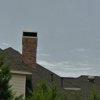Chimney: (17, 24, 56, 83)
